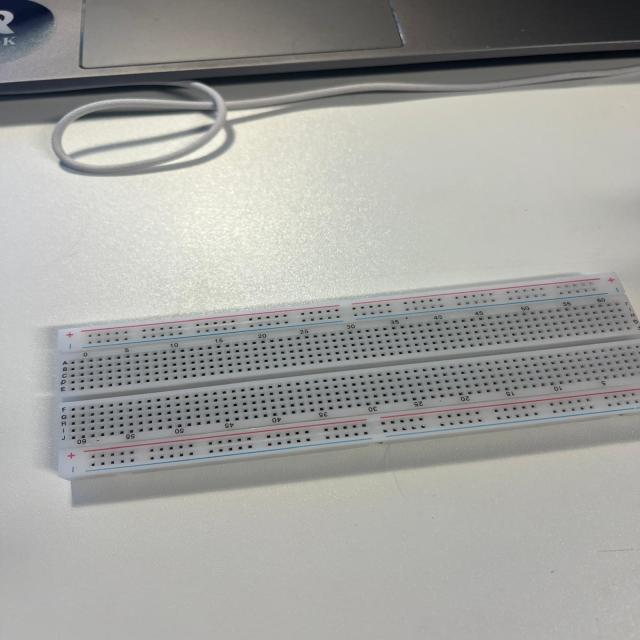BreadBoard: (55, 260, 639, 491)
